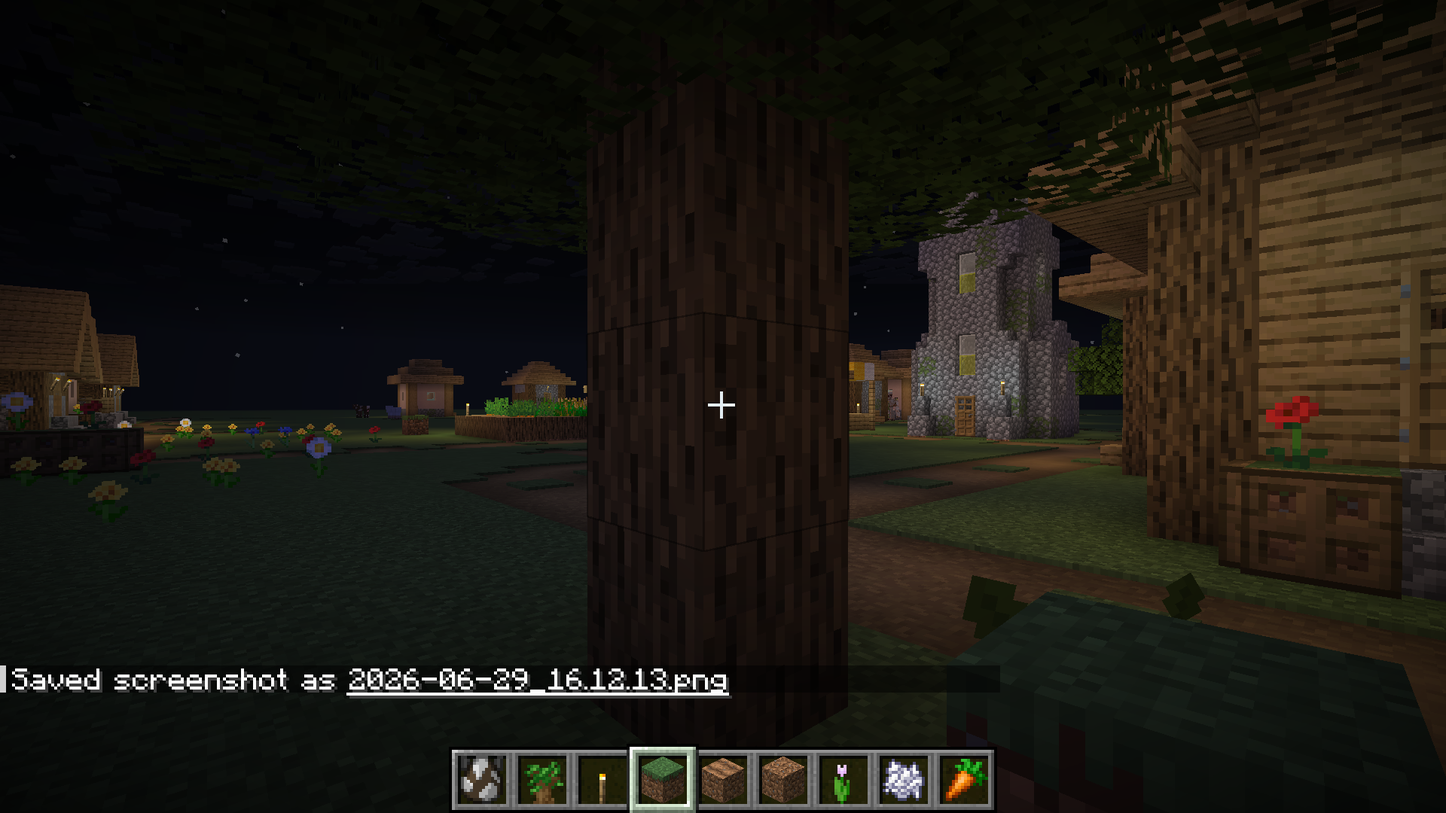cablestone: (953, 295, 993, 328)
flower: (1259, 386, 1334, 479), (297, 429, 347, 484), (84, 481, 139, 531), (8, 443, 57, 494), (199, 449, 248, 495), (2, 387, 47, 436), (69, 390, 116, 434), (166, 404, 206, 447), (128, 447, 165, 478), (362, 420, 393, 450)
wood: (589, 517, 859, 744), (590, 139, 839, 323), (1125, 306, 1233, 424), (1155, 208, 1257, 295)
